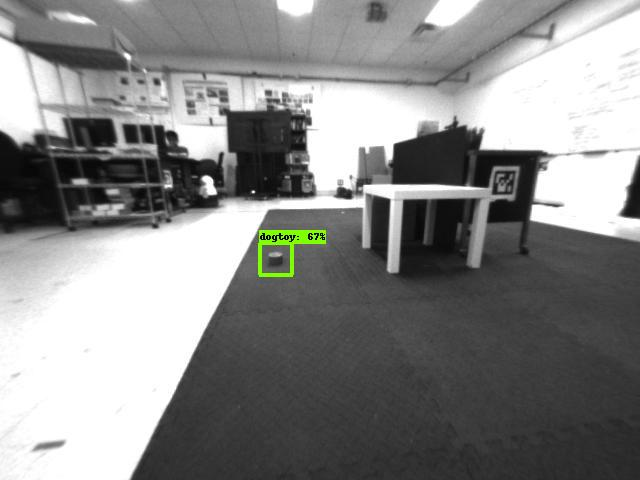dogtoy: (258, 245, 288, 274)
